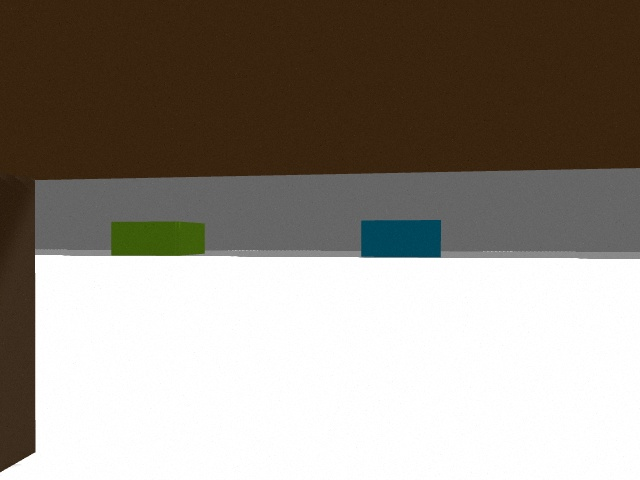blue_drop_zone: (361, 220, 441, 257)
green_drop_zone: (111, 221, 205, 256)
